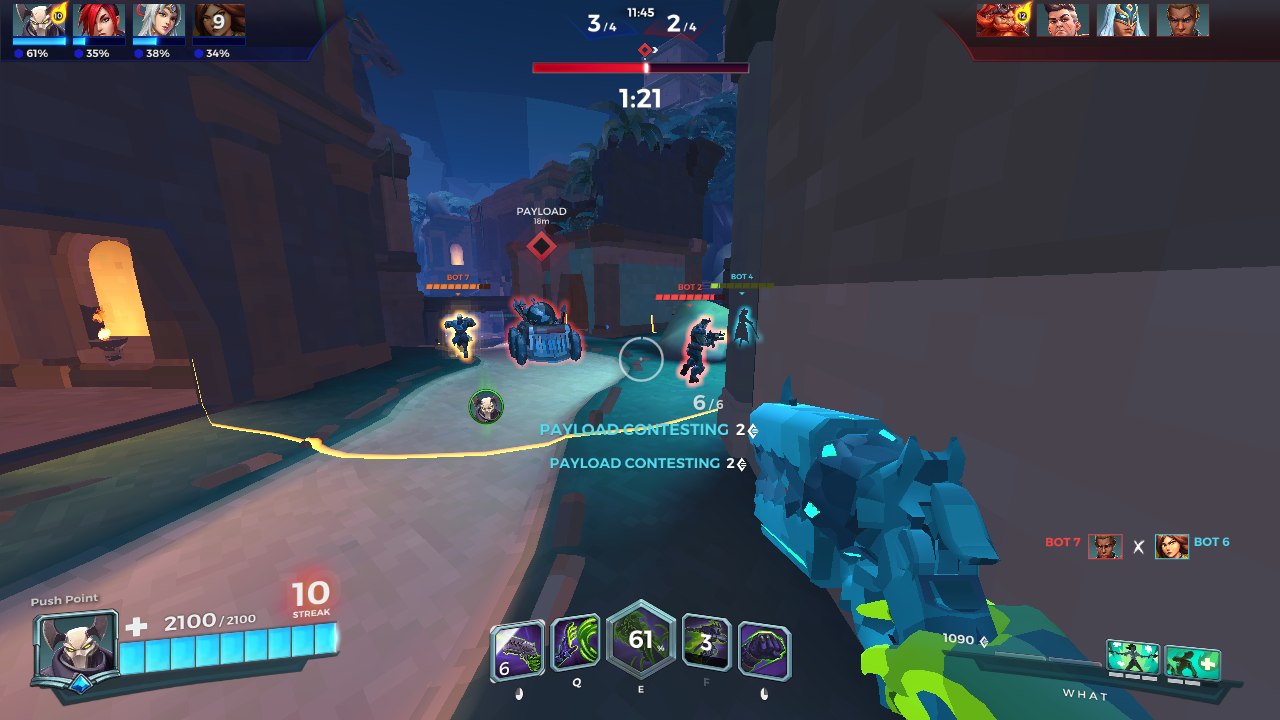model: (437, 303, 487, 365), (678, 311, 714, 384)
